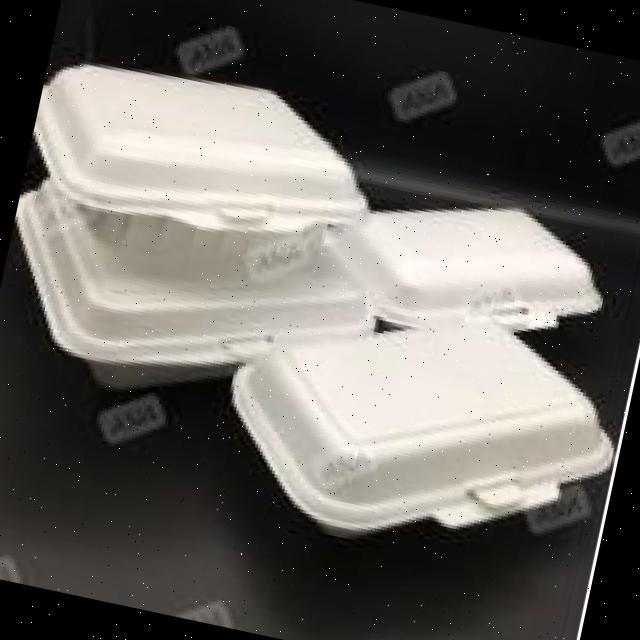styrofoam: (0, 37, 640, 584), (202, 264, 636, 586), (316, 165, 619, 368)
